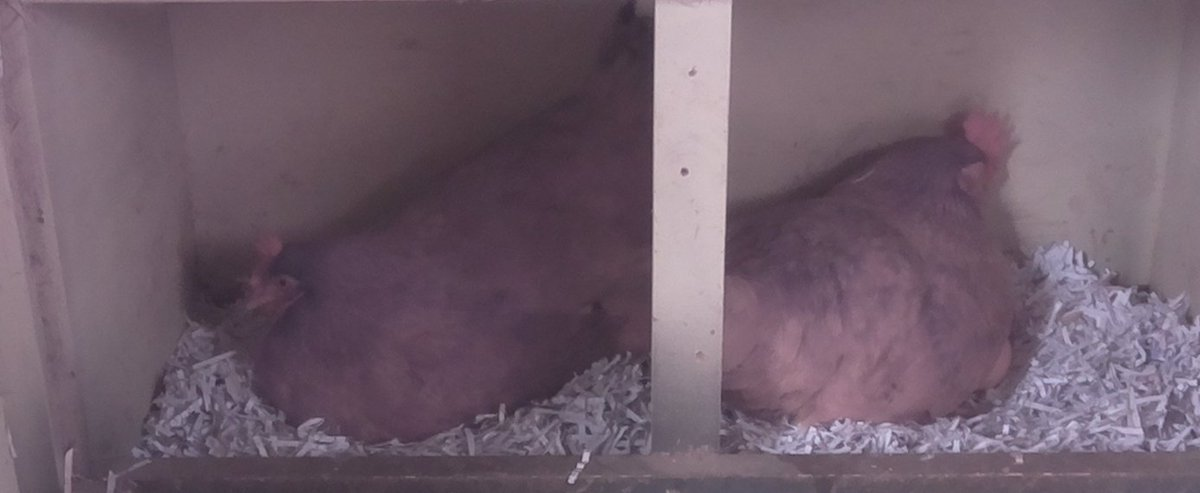hen: (243, 21, 650, 445), (730, 105, 1030, 424)
